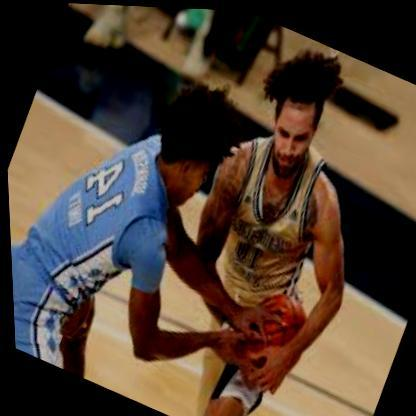basketball: (228, 278, 315, 381)
